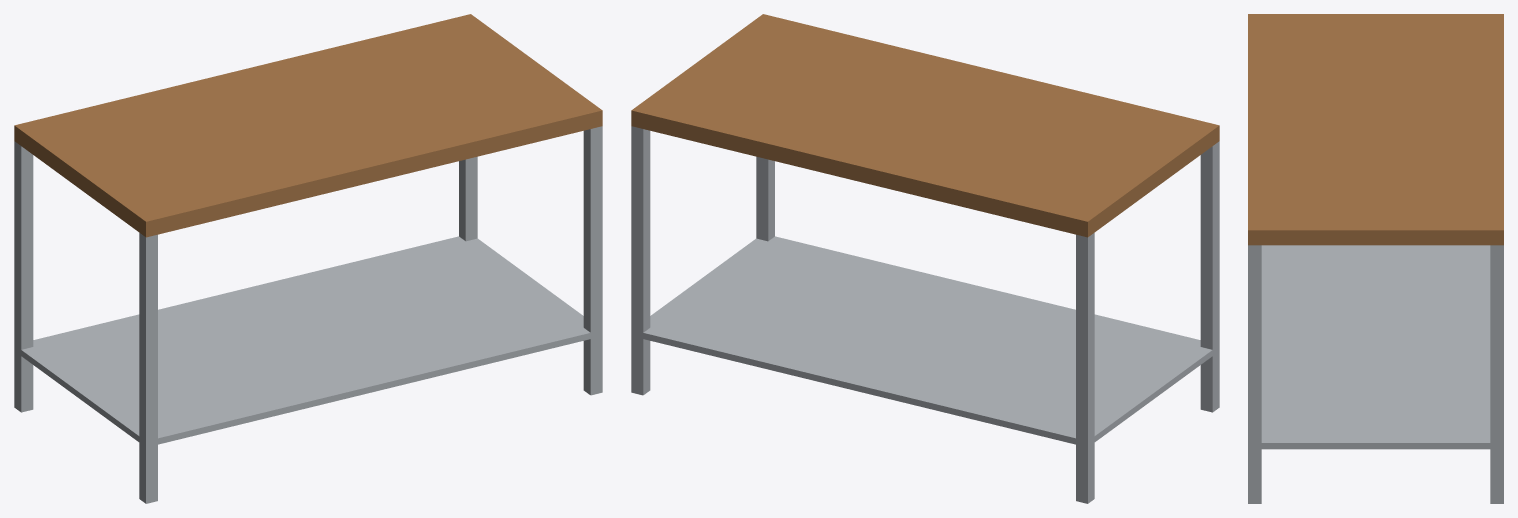
File: prep_table_butcher_block_60.glb
3 views of the same model, side by side, from view 1: azimuth 30°, elevation 25°; view 2: azimuth 150°, elevation 25°; view 3: azimuth 270°, elevation 25° (orthographic). The views are drawn at different scales.
Size of the model in its own units: 1.52 by 0.9 by 0.762.
